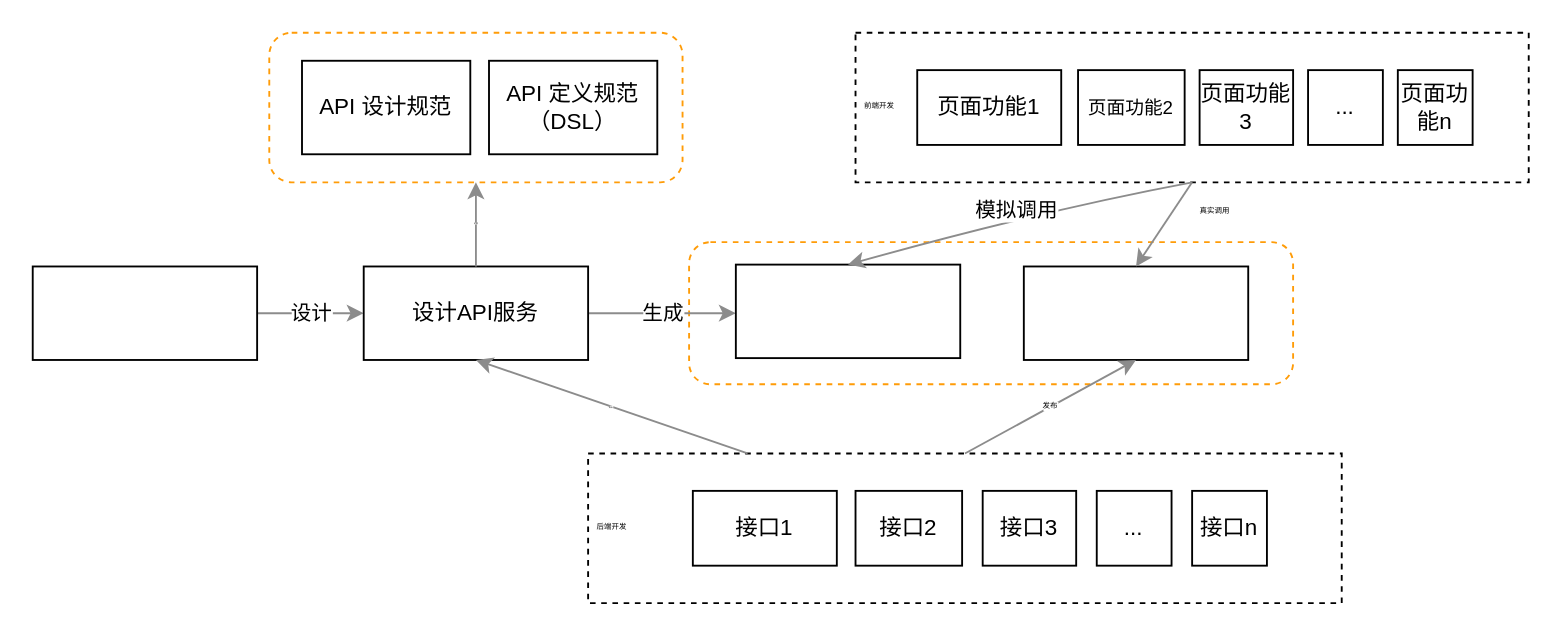
Some shapes in this 1561 by 636 pixel diagram are drawn without their labels. Here are the shapes that lost their labels. From the top down, the box of each, then its label:
(31, 265, 257, 360): DDD + 原型
(734, 263, 960, 358): 生成Mock服务
(1022, 265, 1248, 360): 真实服务
